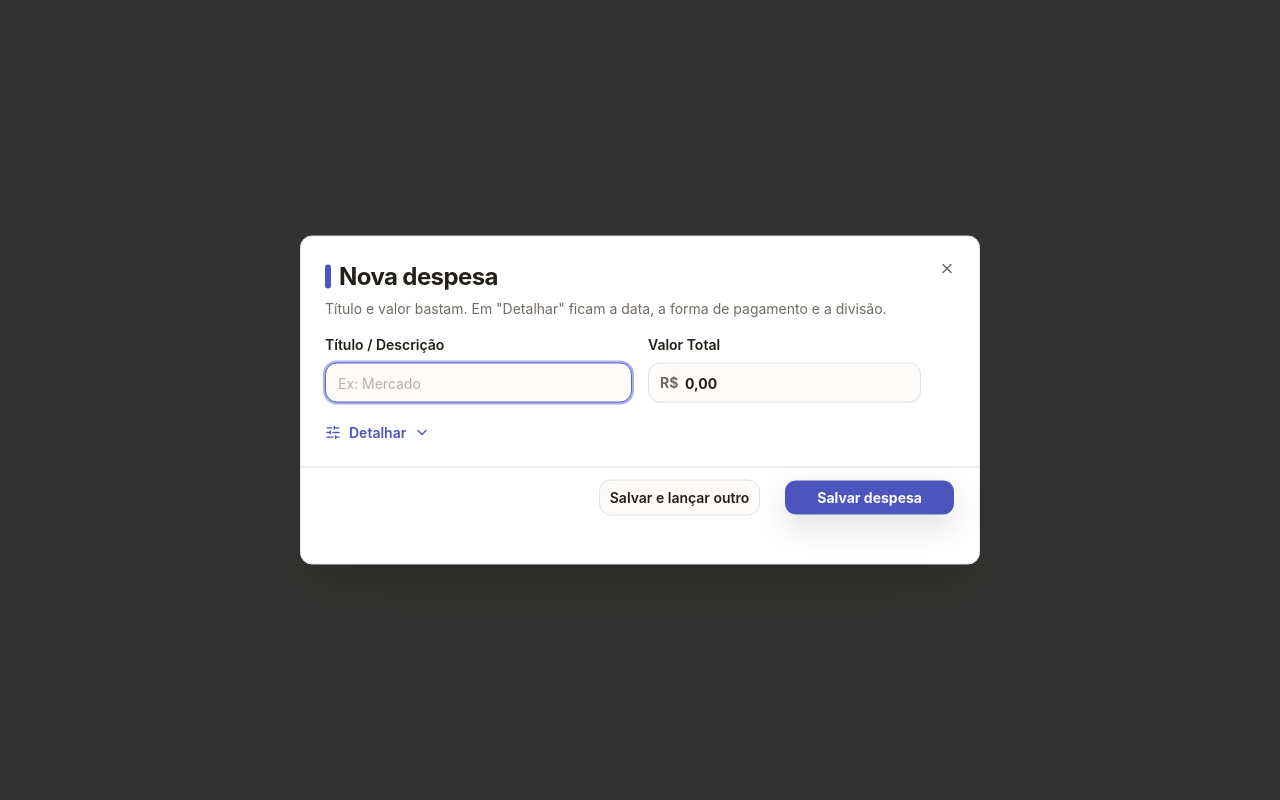
Test: NewTransactionDialog — método de divisão › exibe a mensagem de erro do envelope da API em vez de alert genérico
Click the button "Detalhar" at (378, 432), box x1=325 y1=422 x2=430 y2=442
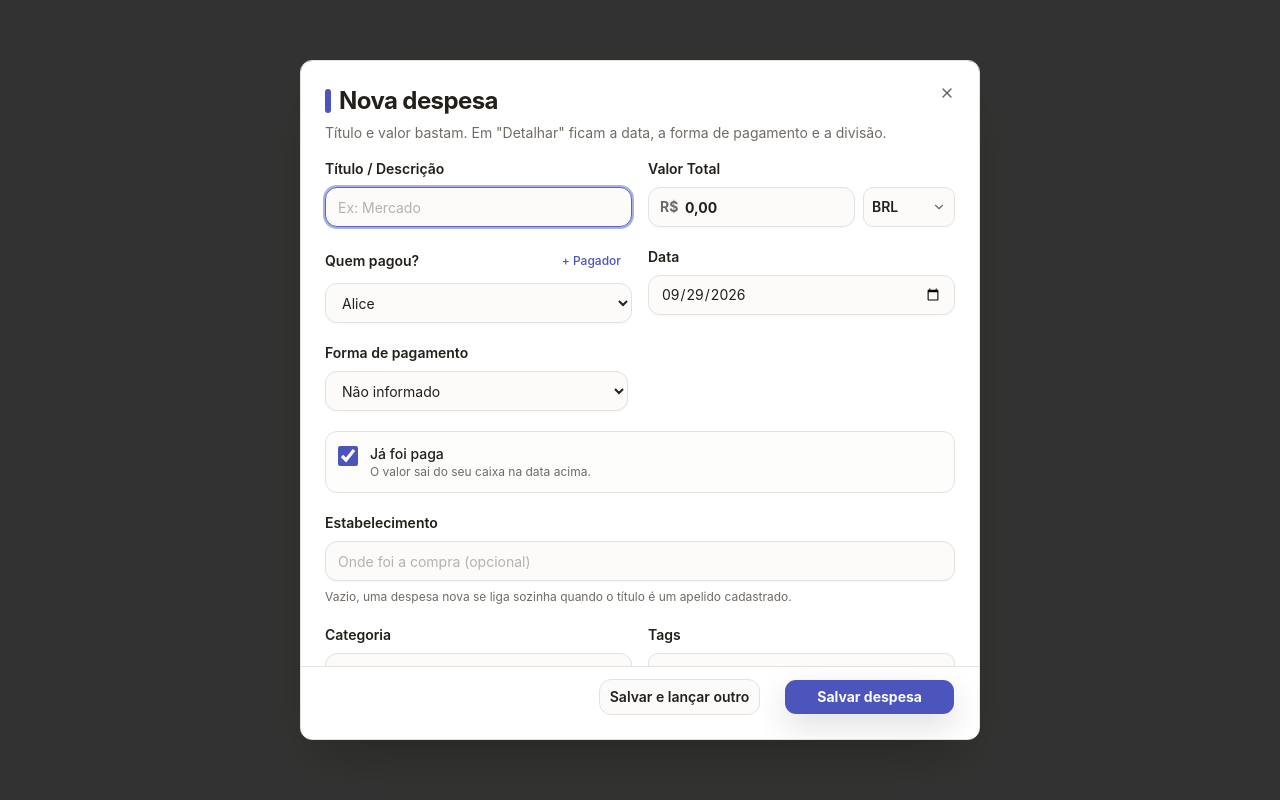
Type "Mercado" into the field labelled "Título / Descrição" at (478, 207), box x1=325 y1=187 x2=632 y2=227
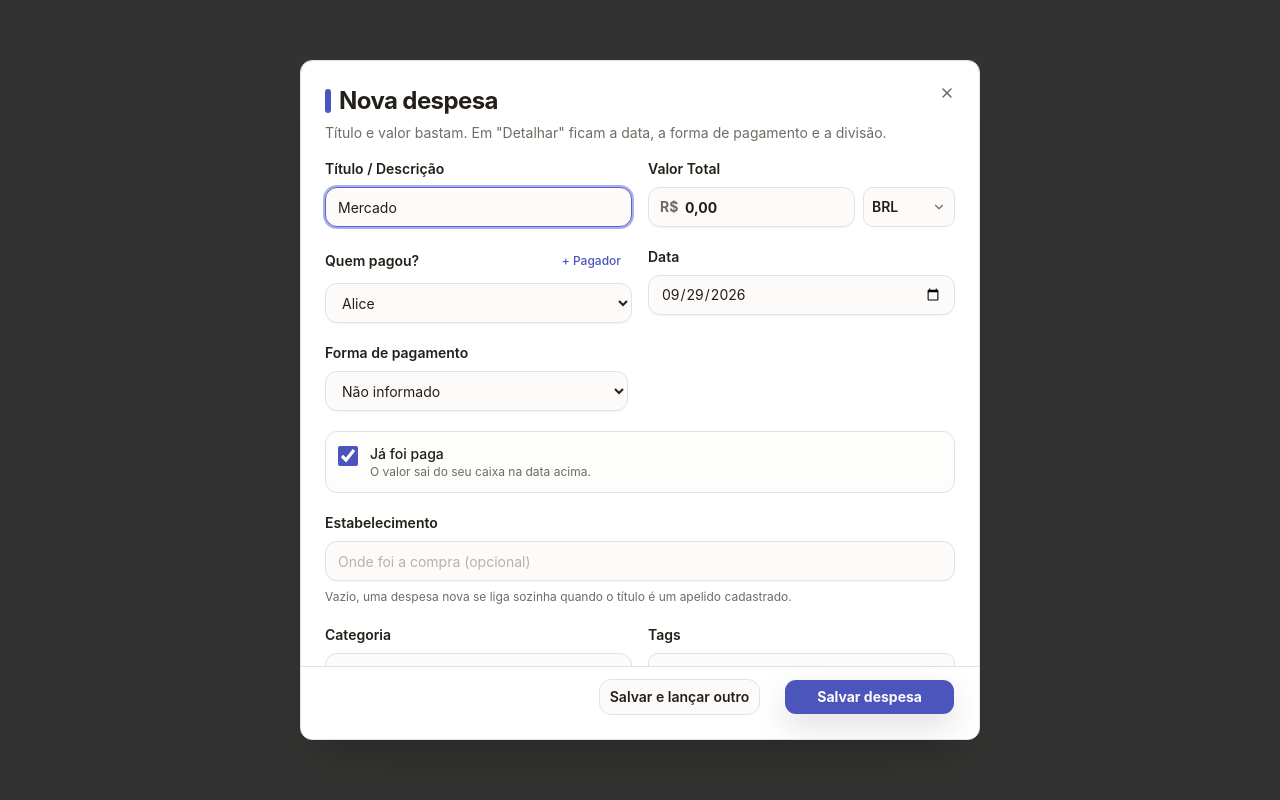
Replace the text in the field labelled "Valor Total" with "90,00" at (752, 207), box x1=648 y1=187 x2=855 y2=227
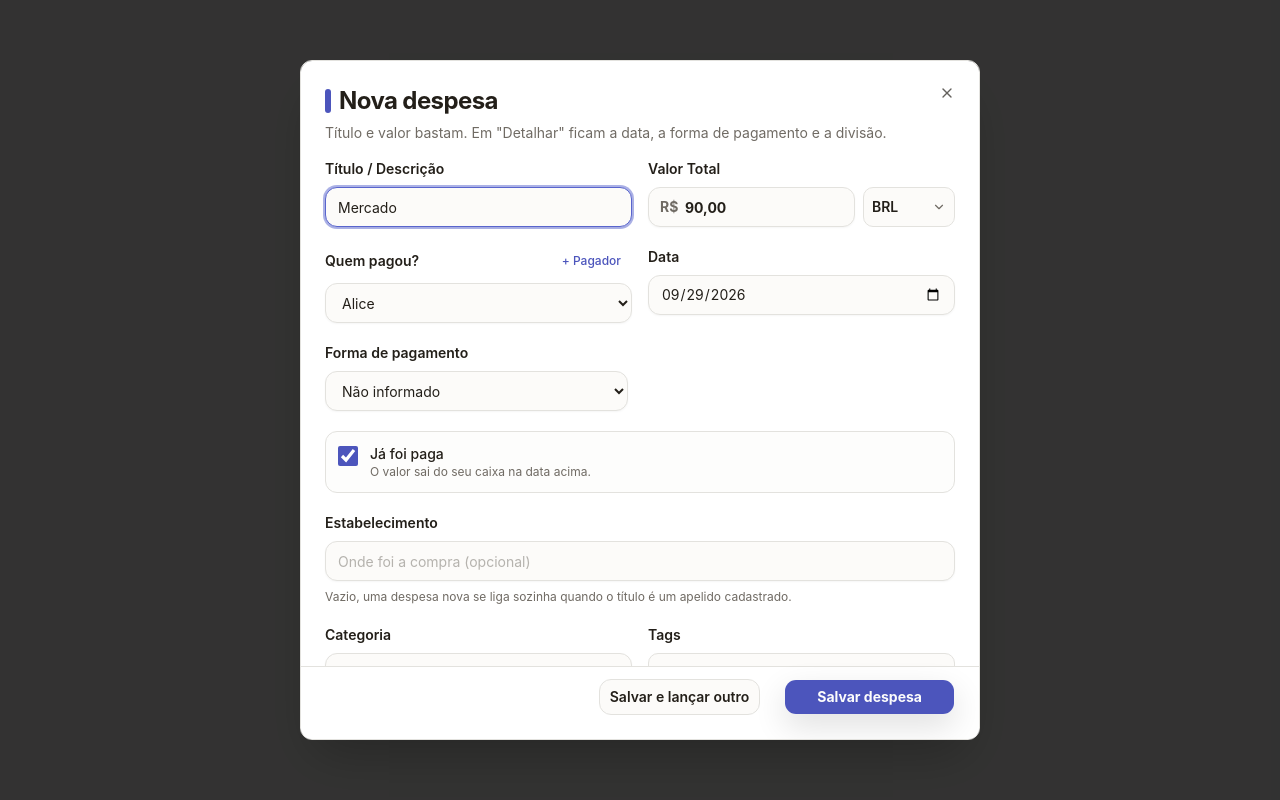
Click the button "Salvar despesa" at (870, 697), box x1=784 y1=679 x2=955 y2=715
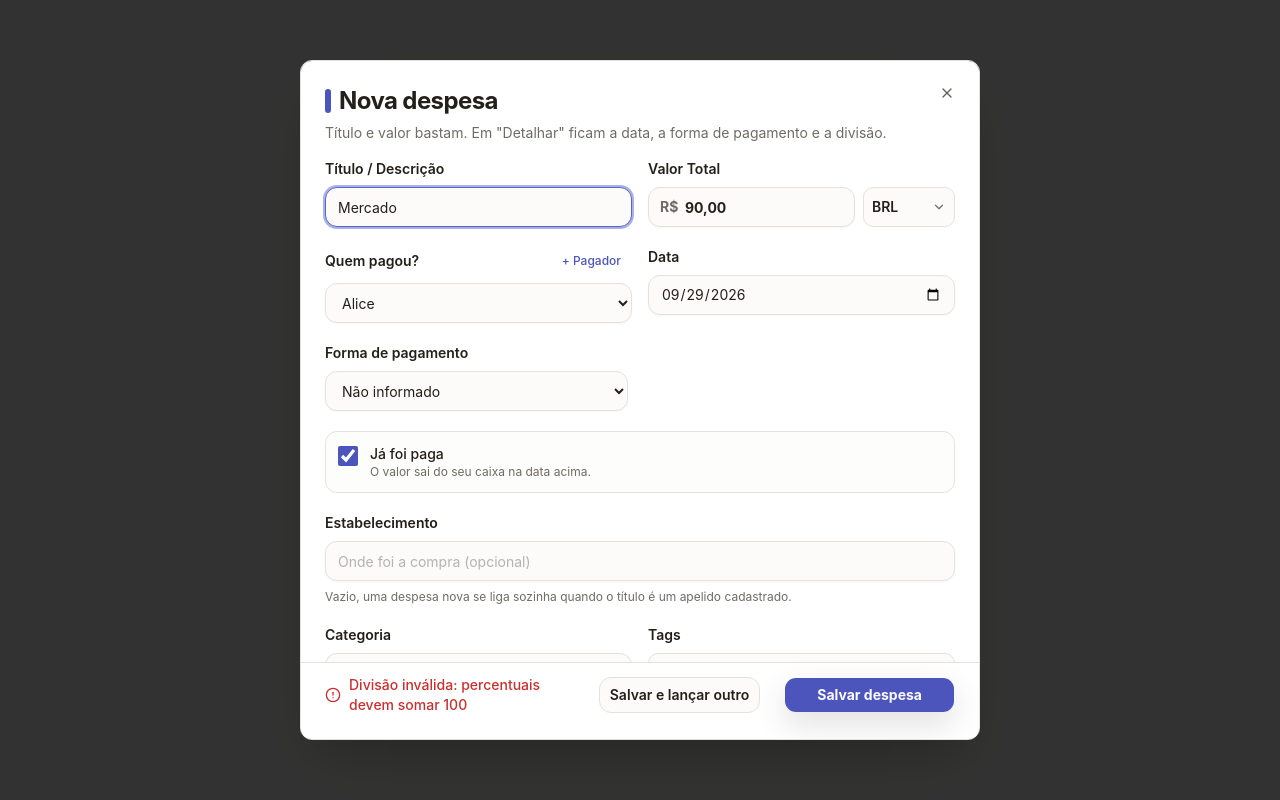
Now the message reads "Divisão inválida: percentuais devem somar 100", box x1=349 y1=676 x2=540 y2=713
